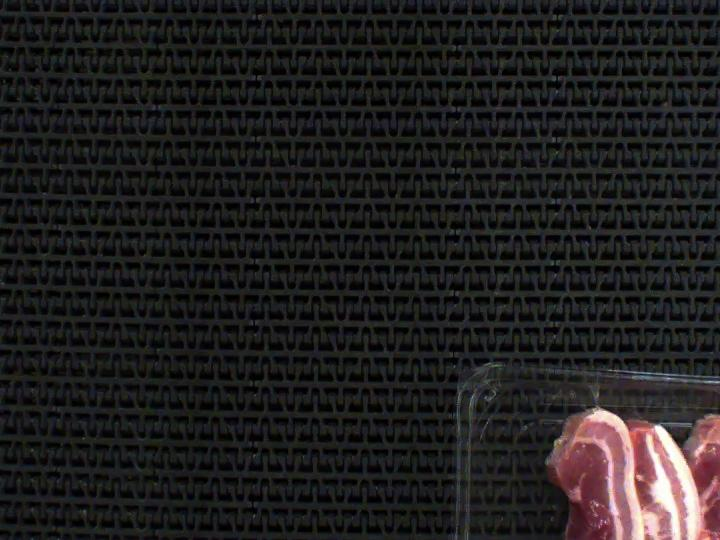packaging-error: (581, 377, 611, 422)
